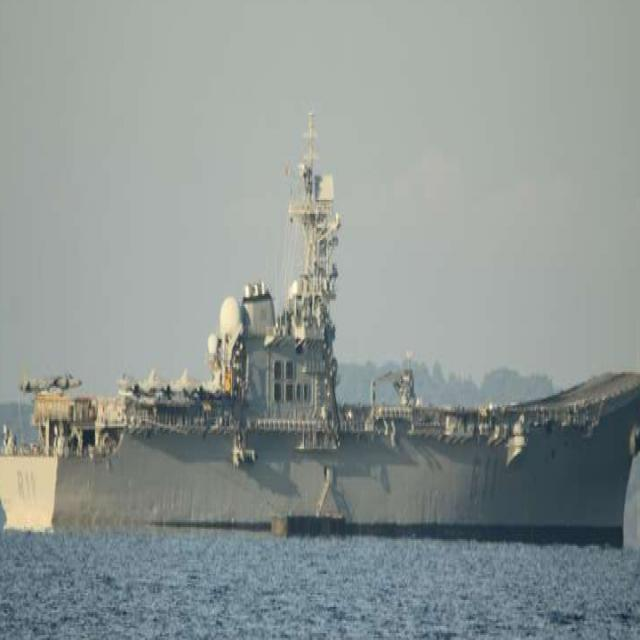Portanaves: (1, 145, 640, 547)
